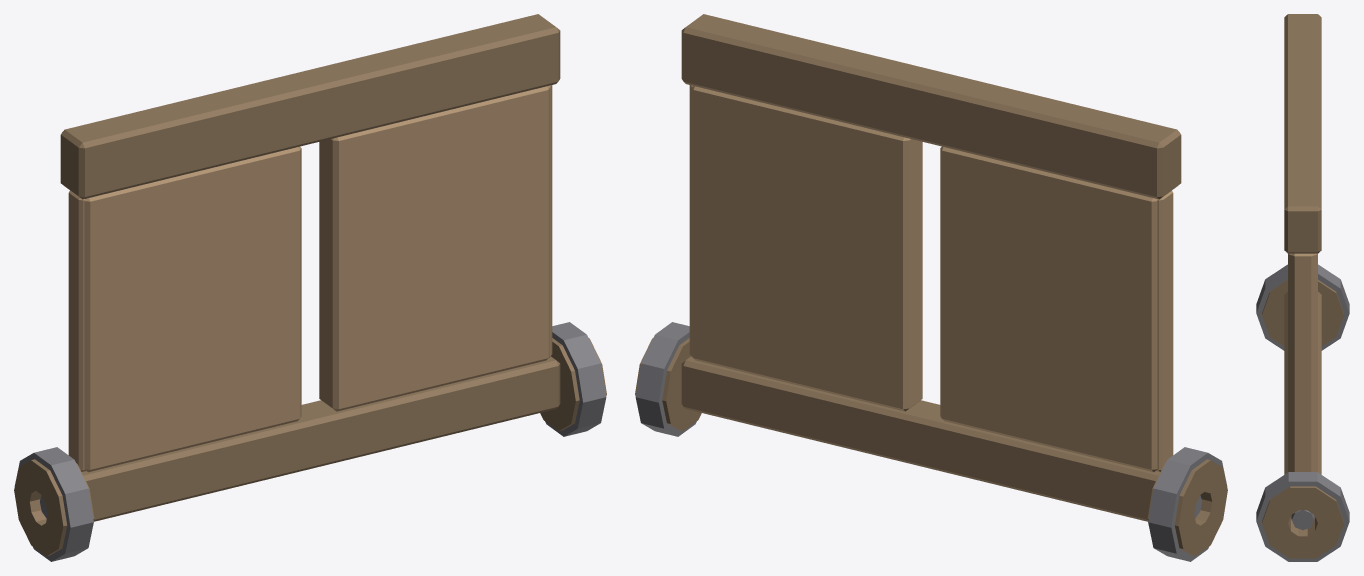
File: prop-mantlet.fbx
The picture shows the model from 3 angles, left to right: view 1: azimuth 30°, elevation 25°; view 2: azimuth 150°, elevation 25°; view 3: azimuth 270°, elevation 25°; orthographic projection. The views are drawn at different scales.
Visible parts, largest first — view 1: prop-mantlet; view 2: prop-mantlet; view 3: prop-mantlet.
Part boxes in pixels (<box>): prop-mantlet: <box>14,14,606,561</box>; prop-mantlet: <box>635,14,1227,561</box>; prop-mantlet: <box>1256,14,1349,561</box>.
Bounding box in the file's own units: 1.4 × 1.01 × 0.25.
